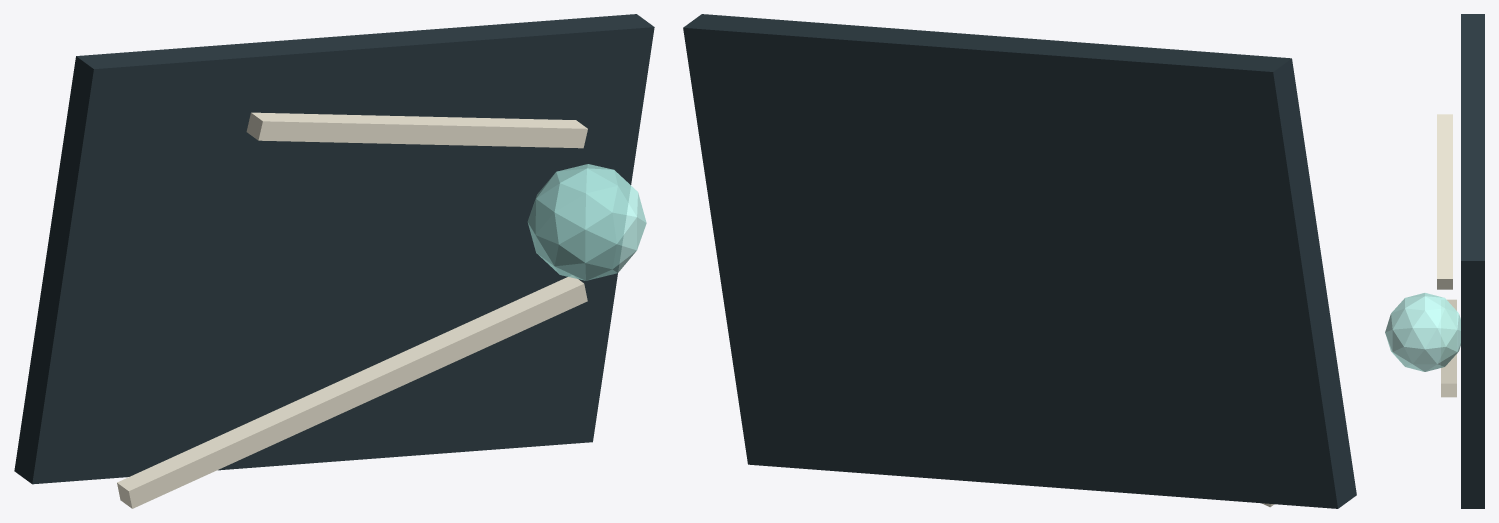
File: 02_world_prop_polish.glb
The picture shows the model from 3 angles, left to right: view 1: azimuth 30°, elevation 25°; view 2: azimuth 150°, elevation 25°; view 3: azimuth 270°, elevation 25°; orthographic projection. The views are drawn at different scales.
Visible parts, largest first — view 1: object_overlay_plate, edge_wear_a, glow_socket, edge_wear_b; view 2: object_overlay_plate; view 3: object_overlay_plate, glow_socket, edge_wear_b, edge_wear_a.
Part boxes in pixels (x1,y1,x2,y2): object_overlay_plate: (14,14,654,484); edge_wear_a: (117,276,587,508); glow_socket: (527,164,646,280); edge_wear_b: (246,112,587,148); object_overlay_plate: (683,14,1356,508); object_overlay_plate: (1461,14,1484,508); glow_socket: (1385,293,1460,371); edge_wear_b: (1437,114,1452,289); edge_wear_a: (1441,299,1456,397).
Size of the model in its own units: 1.21 by 0.9157 by 0.25.
